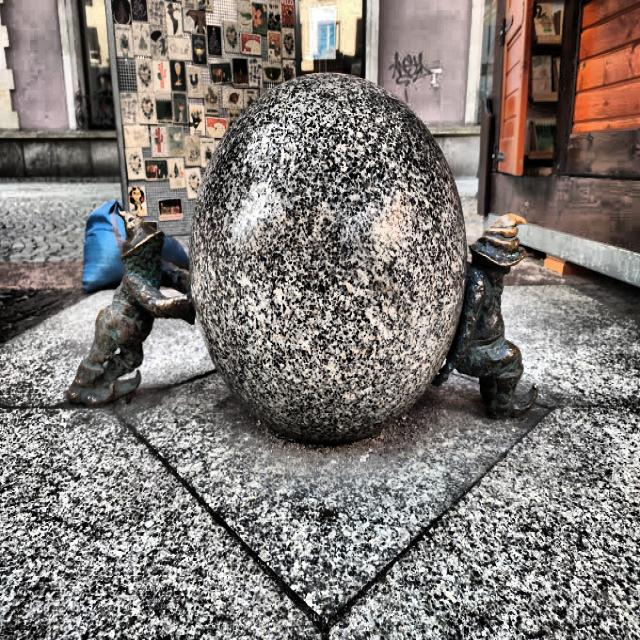Syzyfki: (42, 61, 547, 456)
